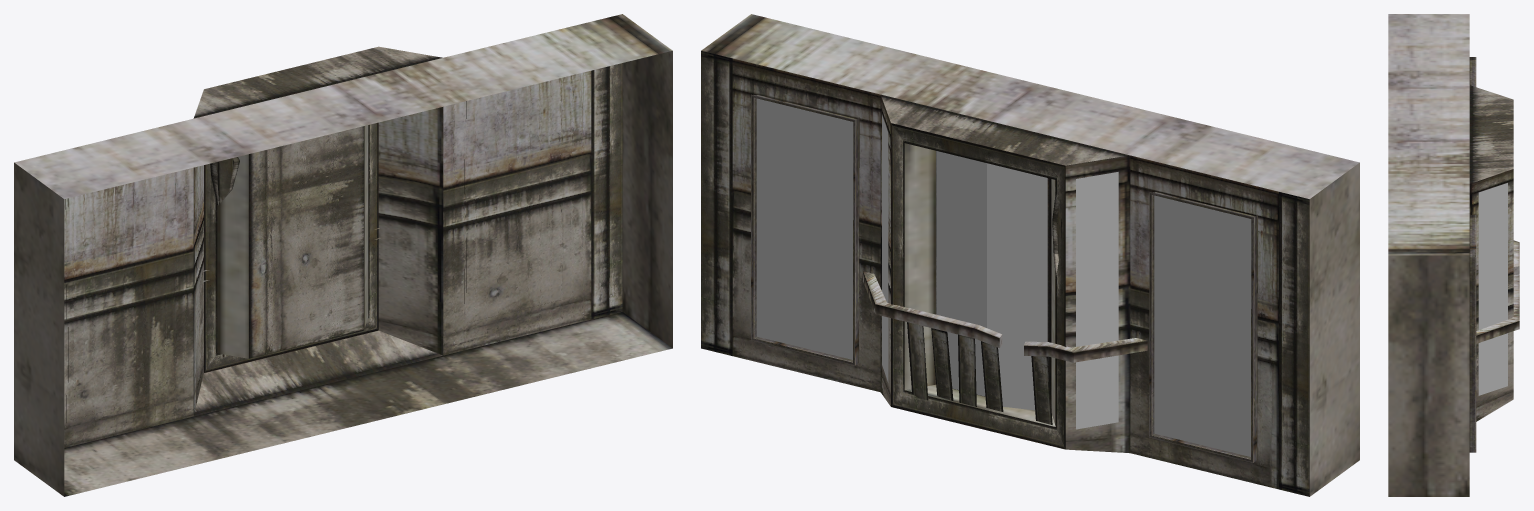
Rendered from Store_front_10_D.fbx.
The picture shows the model from 3 angles, left to right: view 1: azimuth 30°, elevation 25°; view 2: azimuth 150°, elevation 25°; view 3: azimuth 270°, elevation 25°; orthographic projection. The views are drawn at different scales.
Parts seen in each view (by area): view 1: Store_front_10_D; view 2: Store_front_10_D; view 3: Store_front_10_D.
Boxes of the visible parts, box(x1,y1,x2,y2) form: Store_front_10_D: box(14, 14, 672, 496); Store_front_10_D: box(701, 14, 1359, 496); Store_front_10_D: box(1388, 14, 1519, 496).
Bounding box in the file's own units: 700 × 328 × 161.
